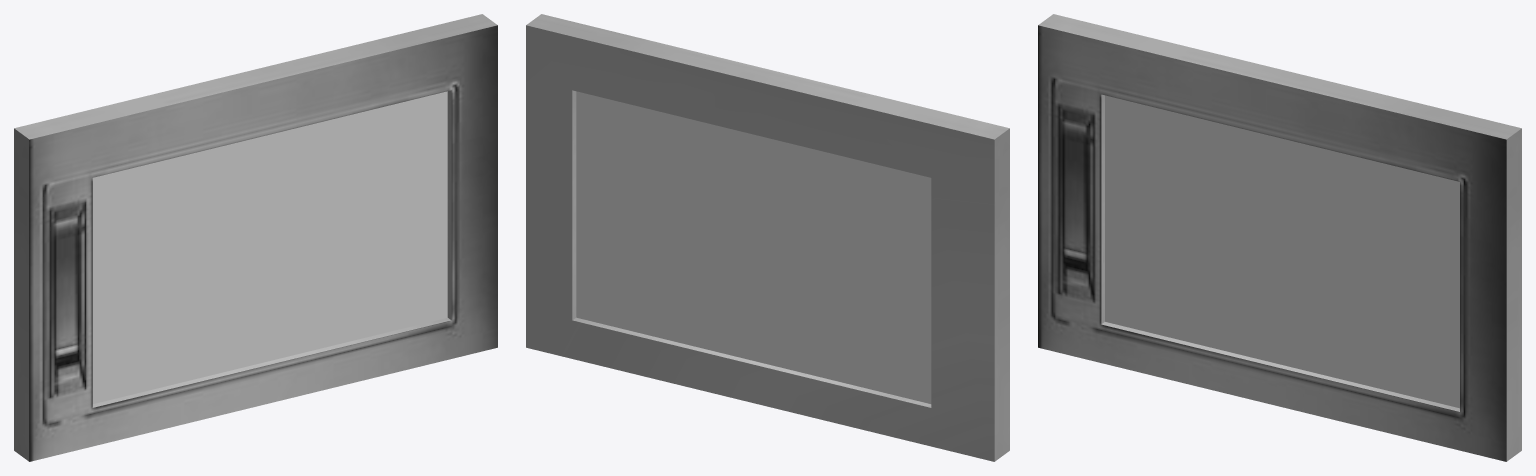
The model's file is Microwave_door_03.glb.
The picture shows the model from 3 angles, left to right: view 1: azimuth 30°, elevation 25°; view 2: azimuth 150°, elevation 25°; view 3: azimuth 330°, elevation 25°; orthographic projection.
Visible parts, largest first — view 1: Microwave_door_03; view 2: Microwave_door_03; view 3: Microwave_door_03.
Part boxes in pixels (<box>): Microwave_door_03: <box>14,14,497,461</box>; Microwave_door_03: <box>526,14,1009,461</box>; Microwave_door_03: <box>1038,14,1521,461</box>.
Size of the model in its own units: 0.5501 by 0.3618 by 0.0314.
2 materials, 1 textured.
